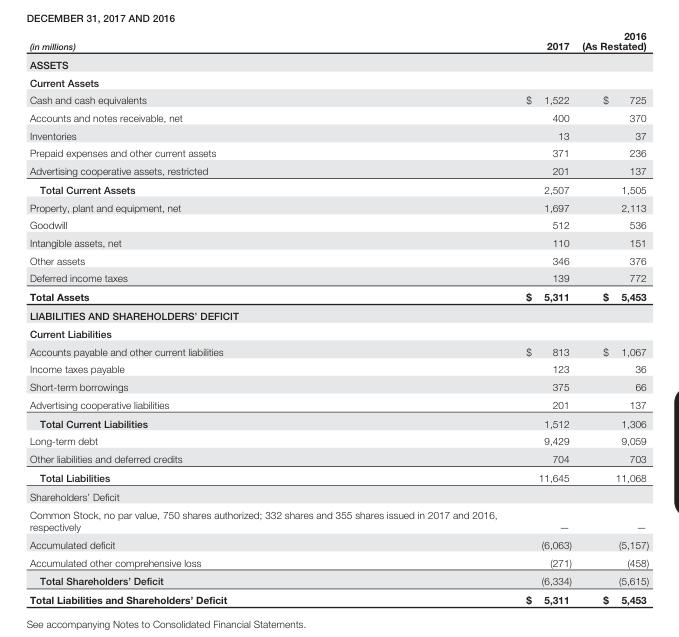table: (28, 29, 648, 605)
table column: (28, 29, 510, 605), (576, 29, 648, 605), (510, 29, 576, 605)
table column header: (28, 29, 648, 54)
table projected row header: (28, 54, 648, 73), (28, 306, 648, 324), (28, 324, 648, 342), (28, 486, 648, 504), (28, 73, 648, 90)
table row: (28, 504, 648, 535), (28, 29, 648, 54), (28, 54, 648, 73), (28, 179, 648, 198), (28, 268, 648, 287), (28, 287, 648, 306), (28, 467, 648, 486), (28, 552, 648, 571), (28, 571, 648, 590), (28, 90, 648, 108), (28, 108, 648, 126), (28, 143, 648, 161), (28, 161, 648, 179), (28, 215, 648, 233), (28, 233, 648, 251), (28, 306, 648, 324), (28, 324, 648, 342), (28, 359, 648, 377), (28, 377, 648, 395), (28, 395, 648, 413), (28, 413, 648, 431), (28, 431, 648, 449), (28, 449, 648, 467), (28, 486, 648, 504), (28, 73, 648, 90), (28, 126, 648, 143), (28, 198, 648, 215), (28, 251, 648, 268), (28, 342, 648, 359), (28, 535, 648, 552), (28, 590, 648, 605)
